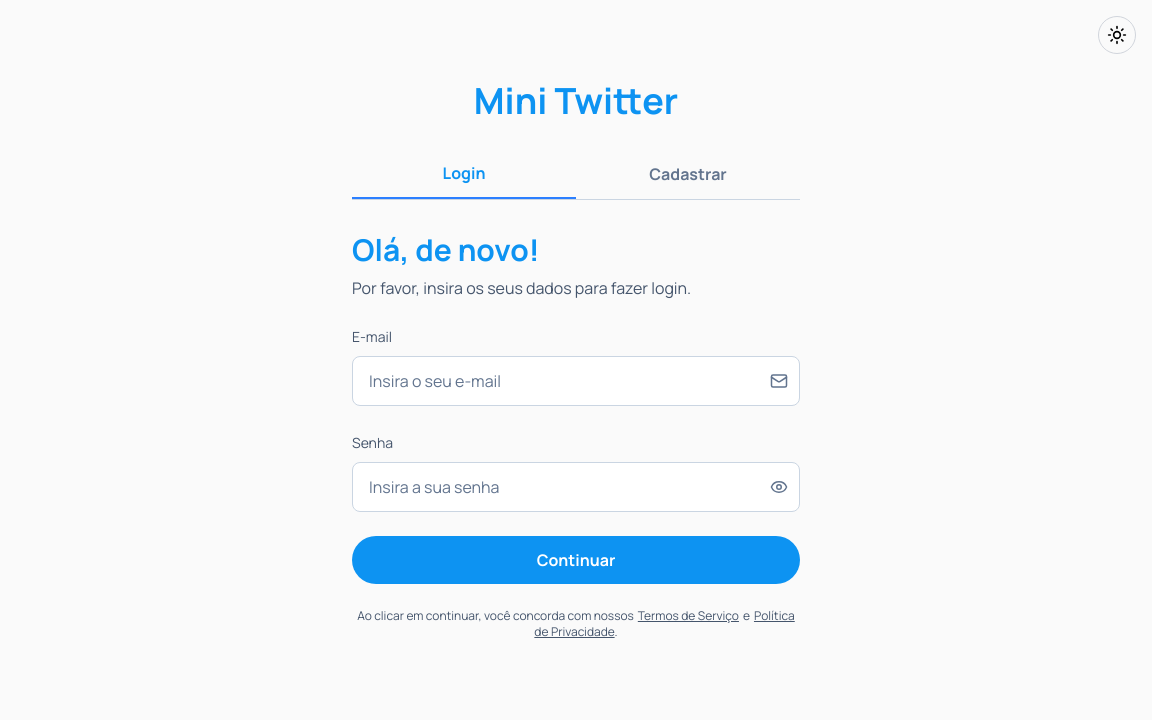
Test case: Timeline (com login real) › should show empty state
In the field with placeholder "Insira o seu e-mail": (576, 381) left=352, top=356, right=800, bottom=406, type "vitor@email.com"
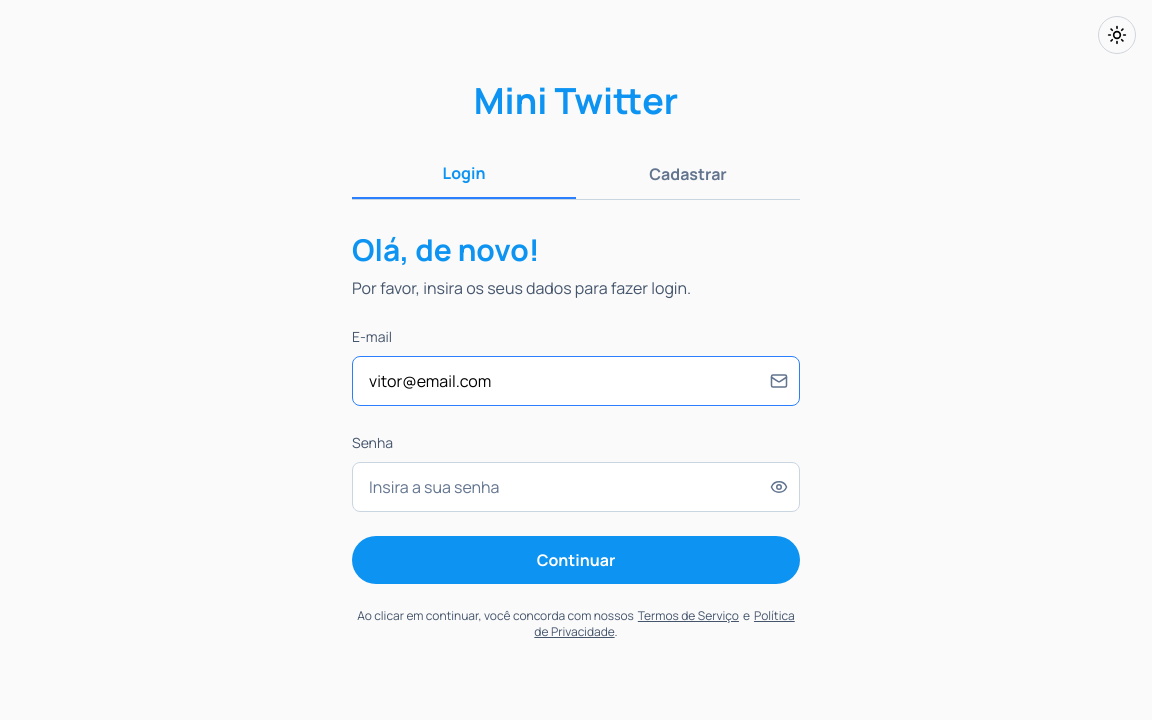
In the password field with placeholder "Insira a sua senha": (576, 487) left=352, top=462, right=800, bottom=512, type "123456"
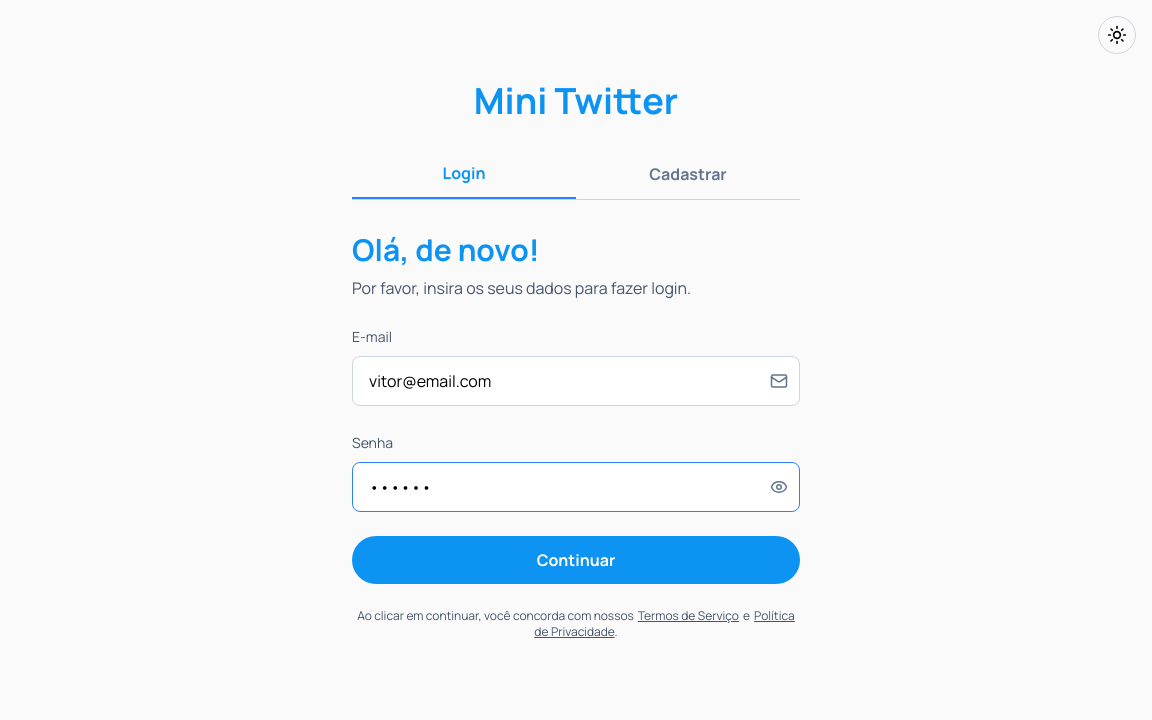
Click the submit button: (576, 560) left=352, top=536, right=800, bottom=584
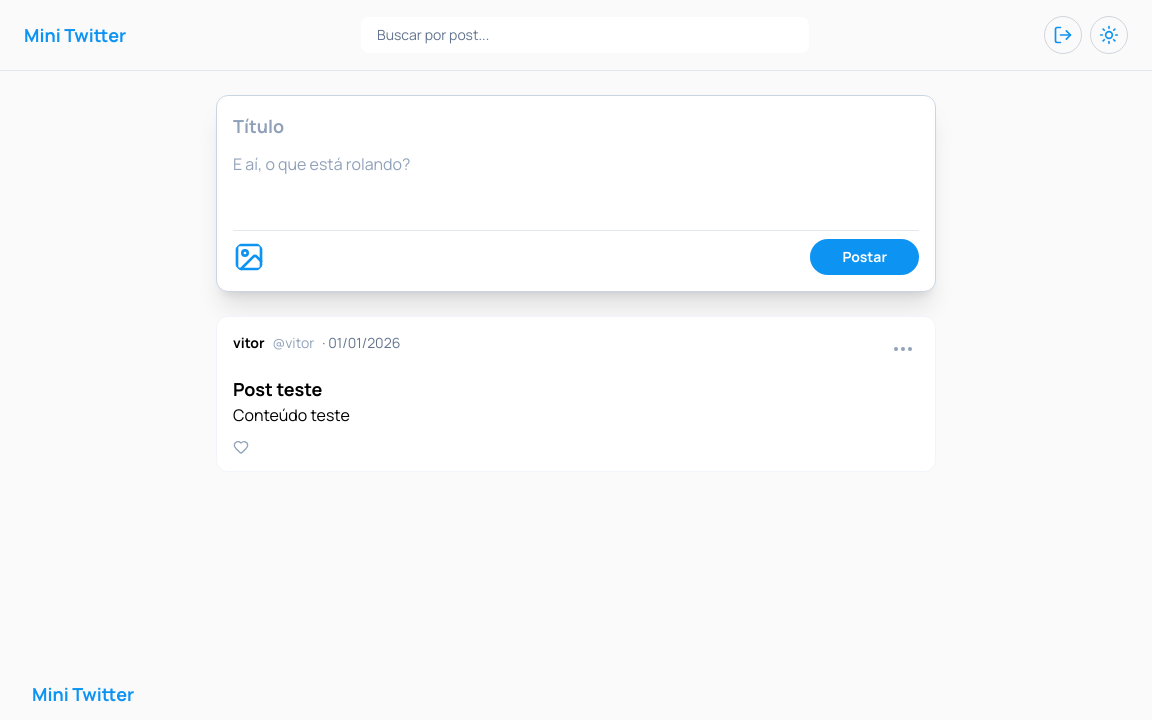
Open "/"
Open "/"
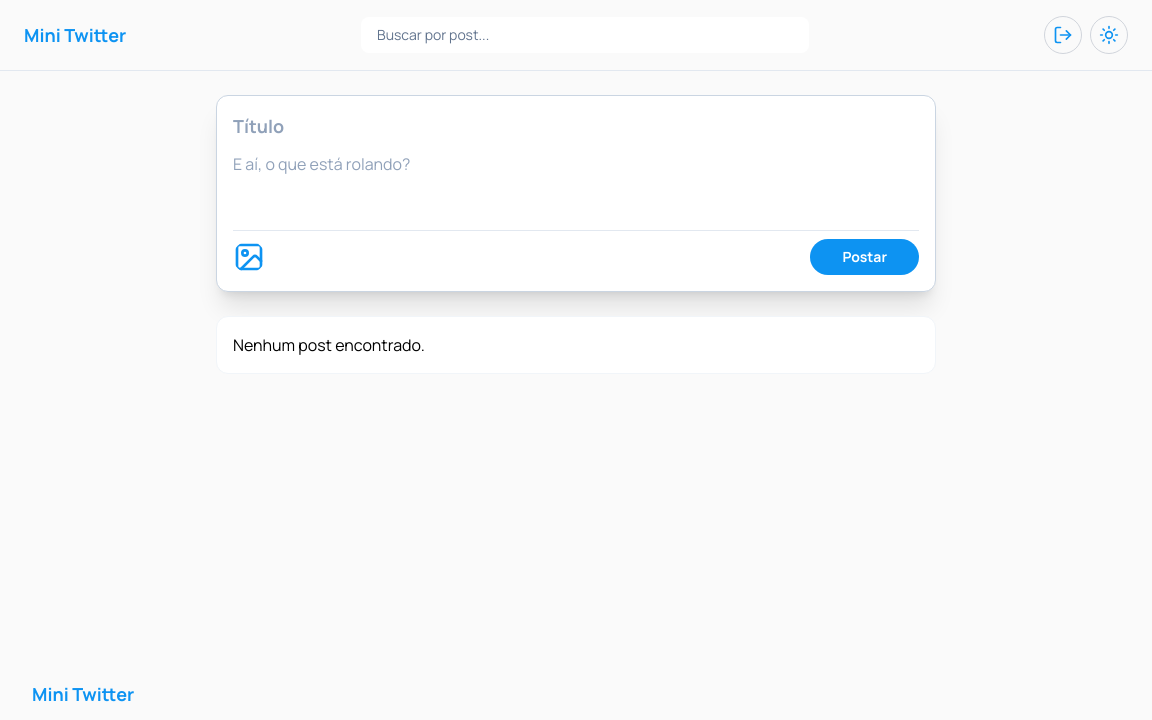
Expected: the text "Nenhum post encontrado." is shown, left=233, top=334, right=425, bottom=356
